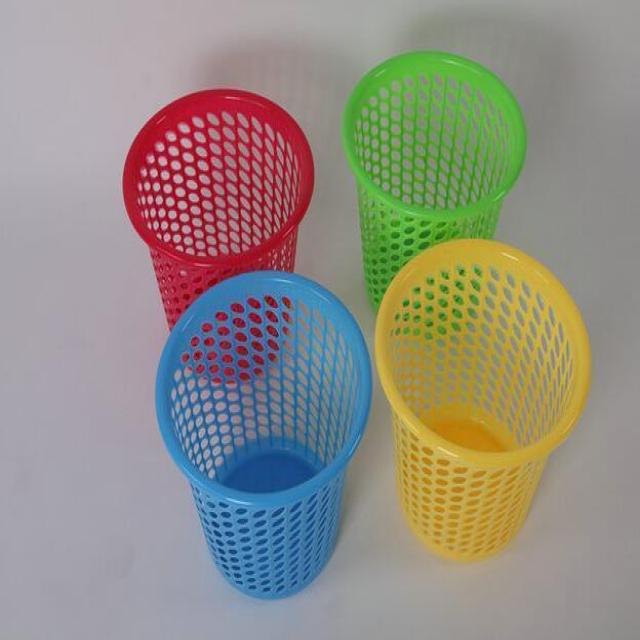dustbin: (372, 228, 596, 567), (154, 267, 376, 606), (120, 85, 319, 385), (338, 46, 530, 341)
